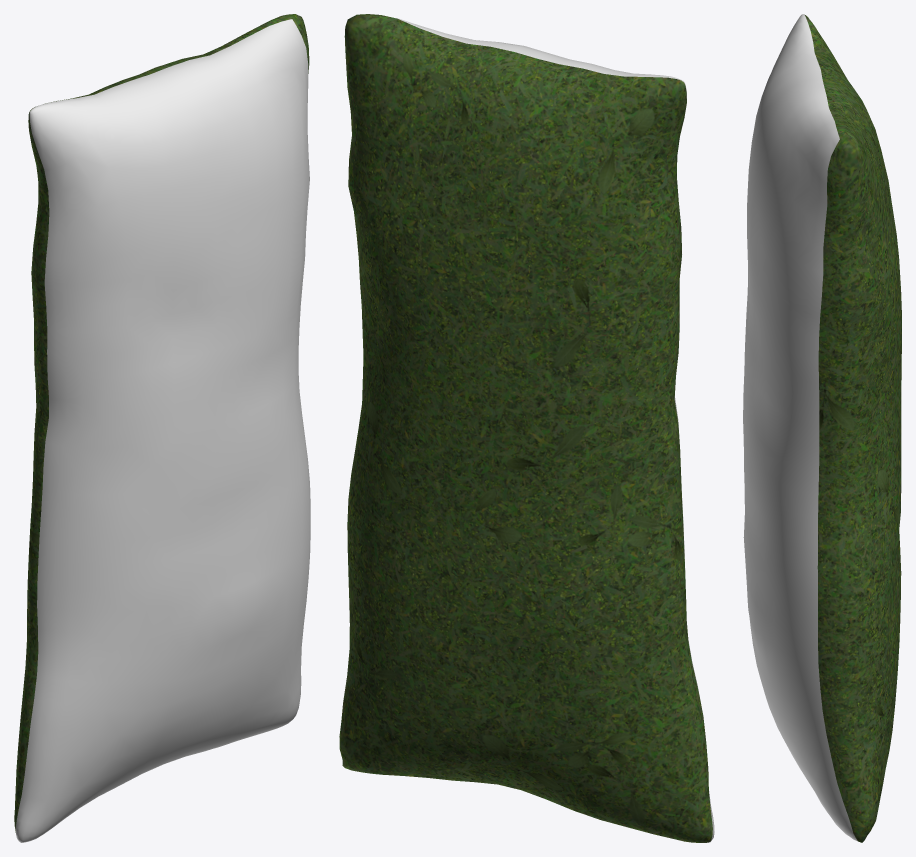
File: Empty Dakimakura2.fbx
The picture shows the model from 3 angles, left to right: view 1: azimuth 30°, elevation 25°; view 2: azimuth 150°, elevation 25°; view 3: azimuth 270°, elevation 25°; orthographic projection. The views are drawn at different scales.
Visible parts, largest first — view 1: Empty Dakimakura.001; view 2: Empty Dakimakura.001; view 3: Empty Dakimakura.001.
Part boxes in pixels (x1,y1,x2,y2): Empty Dakimakura.001: (14,14,310,842); Empty Dakimakura.001: (339,14,714,842); Empty Dakimakura.001: (743,14,901,842).
Bounding box in the file's own units: 197 × 435 × 86.55.
